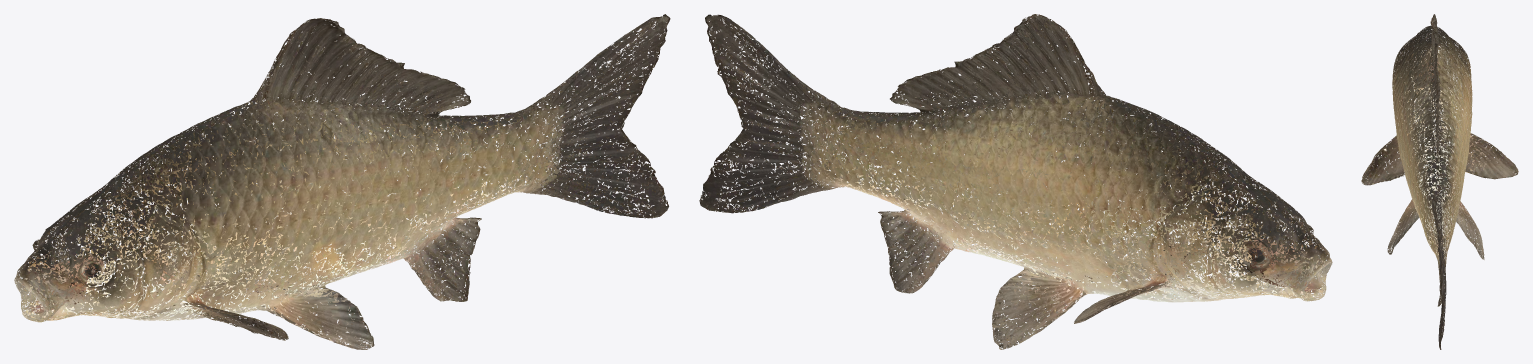
The model's file is crucian.glb.
3 views of the same model, side by side, from view 1: azimuth 30°, elevation 25°; view 2: azimuth 150°, elevation 25°; view 3: azimuth 270°, elevation 25° (orthographic). The views are drawn at different scales.
Visible parts, largest first — view 1: Object_6; view 2: Object_6; view 3: Object_6.
Part boxes in pixels (bbox=[...]): Object_6: bbox=[14, 14, 670, 349]; Object_6: bbox=[699, 14, 1332, 349]; Object_6: bbox=[1361, 14, 1518, 349].
Size of the model in its own units: 0.213 by 0.102 by 0.0606.
1 material, 1 textured.
